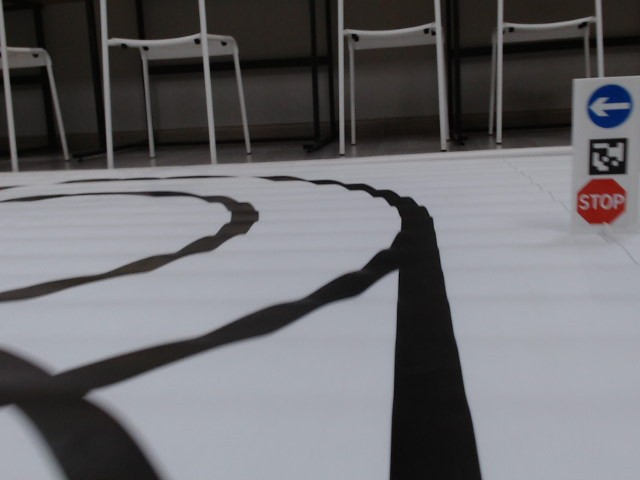Stop: (578, 178, 626, 223)
